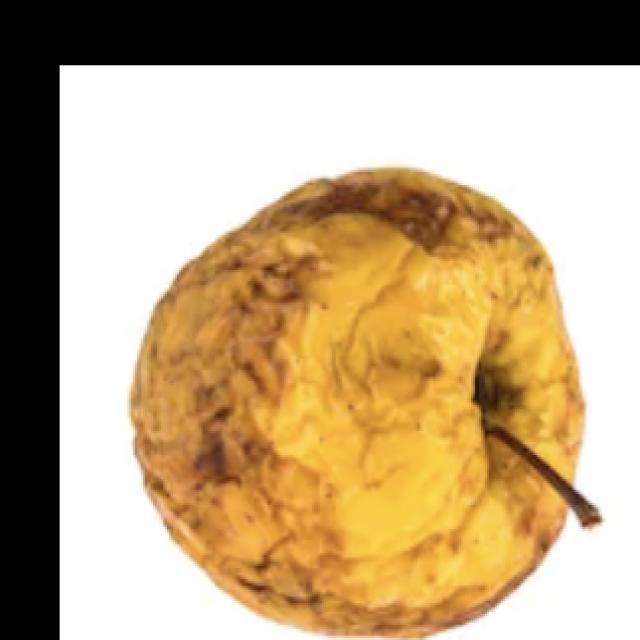Rotten: (145, 176, 577, 616)
